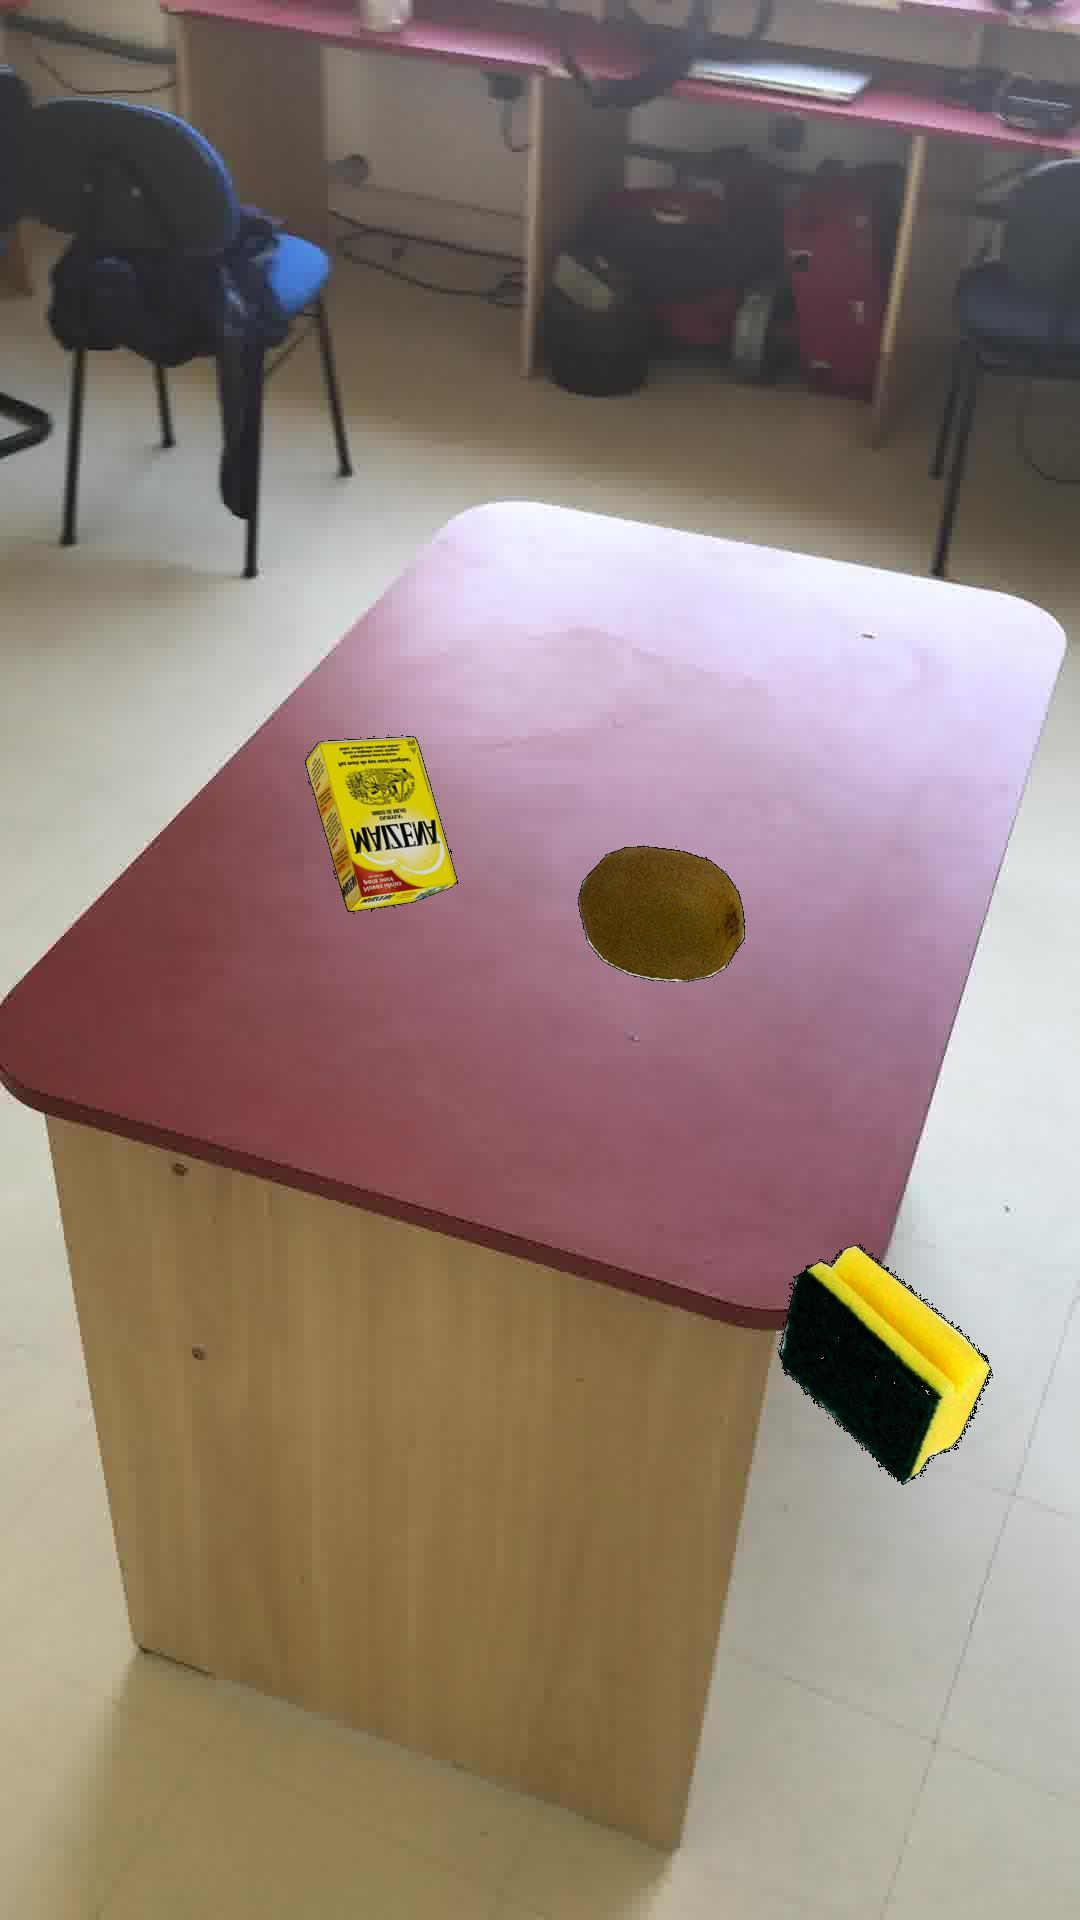kiwi: (576, 844, 744, 981)
sponge: (778, 1244, 990, 1484)
